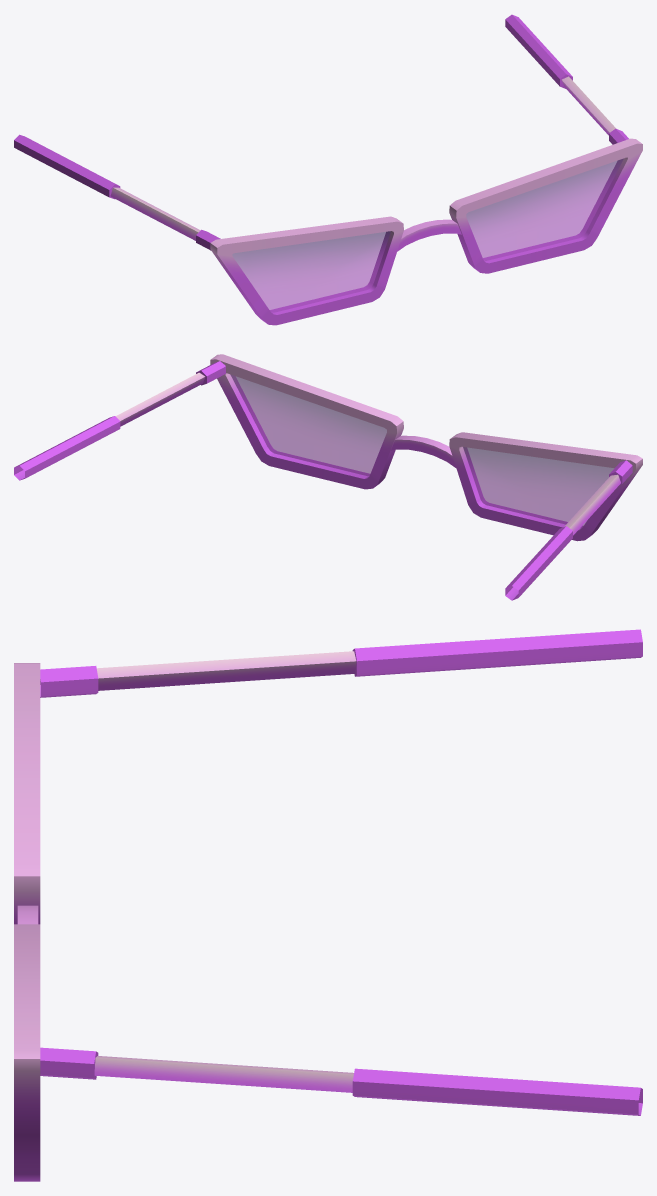
File: Glasses_Flamingo_Blink.gltf
3 views of the same model, one above another, from view 1: azimuth 30°, elevation 25°; view 2: azimuth 150°, elevation 25°; view 3: azimuth 270°, elevation 25° (orthographic). The views are drawn at different scales.
Visible parts, largest first — view 1: Glasses_Flamingo_Blink; view 2: Glasses_Flamingo_Blink; view 3: Glasses_Flamingo_Blink.
Part boxes in pixels (x1,y1,x2,y2): Glasses_Flamingo_Blink: (14, 14, 642, 325); Glasses_Flamingo_Blink: (14, 354, 642, 600); Glasses_Flamingo_Blink: (14, 629, 642, 1181).
Size of the model in its own units: 0.9819 by 0.1744 by 0.5559.
Materials: 2 (2 with a texture image).
